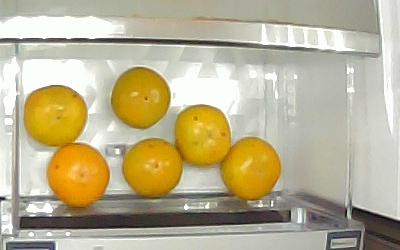persimmon: (47, 143, 110, 208), (24, 85, 88, 147), (111, 66, 171, 131), (222, 137, 282, 200), (121, 138, 183, 198), (175, 104, 231, 167)
